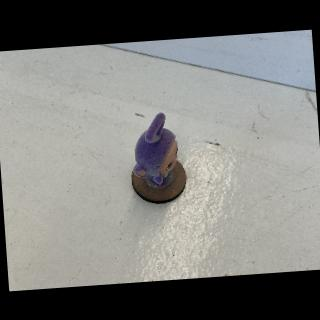teletubby: (133, 112, 177, 184)
